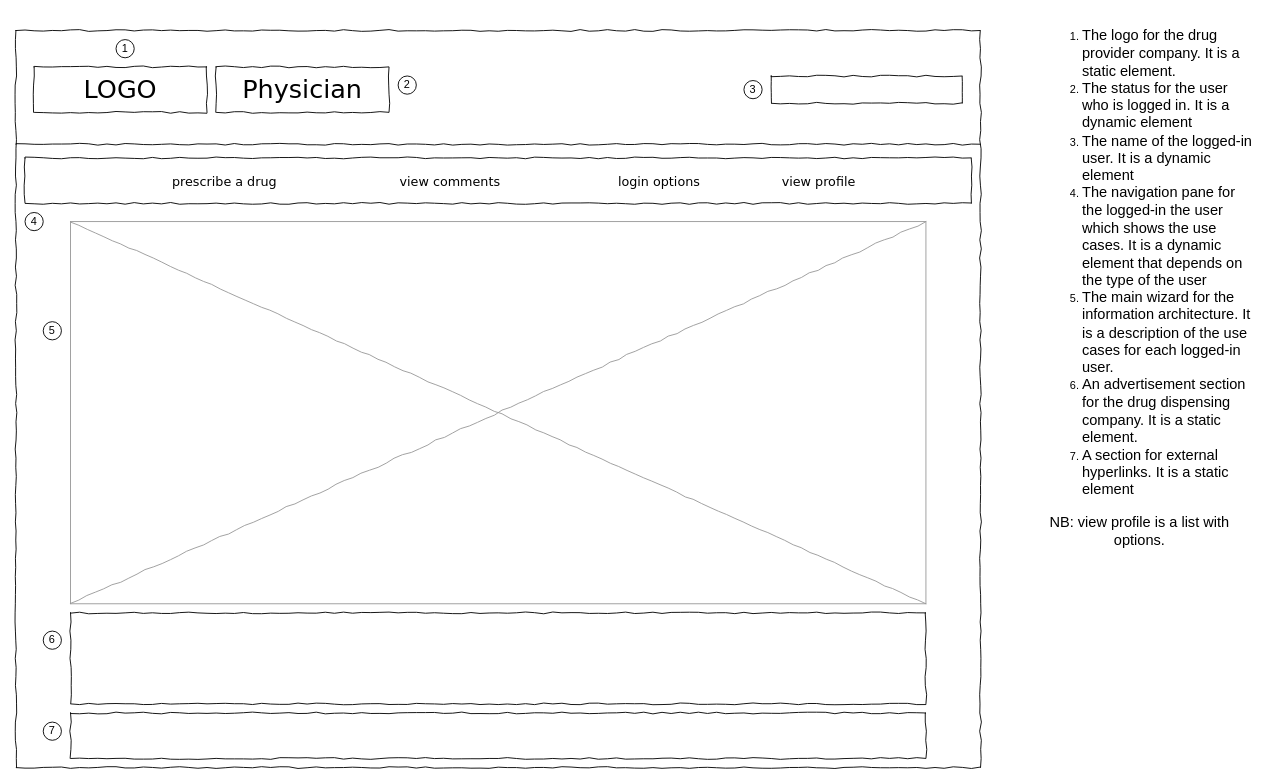
Image size: 1269x784. Some labels were removed from this diagram. Each missing label, with the box of its shape:
At drug consultancy, your health is our ultimate focus: (70, 612, 926, 704)
Dr Waynama John: (770, 75, 962, 103)
External Links: (70, 712, 926, 758)
